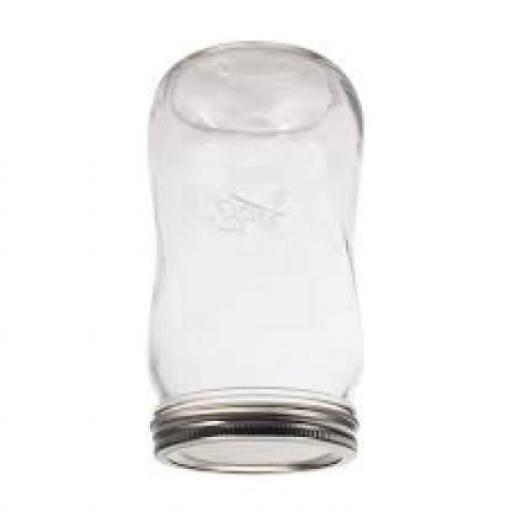glass: (148, 48, 362, 410)
metal: (148, 405, 355, 477)
